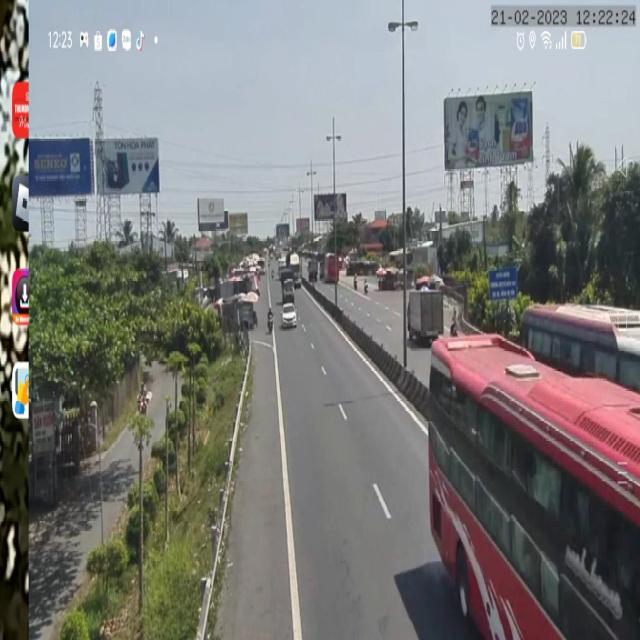bus: (426, 312, 640, 639), (520, 303, 640, 432), (324, 249, 339, 283)
car: (282, 304, 299, 327)
motorbike: (136, 384, 149, 417), (266, 304, 274, 333)
truck: (407, 288, 445, 344), (280, 267, 296, 304), (288, 249, 302, 288)
